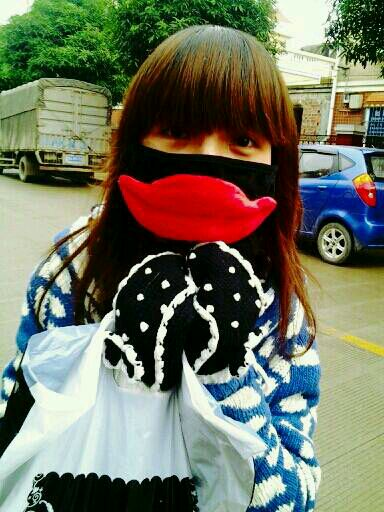face_mask: (138, 72, 273, 247)
